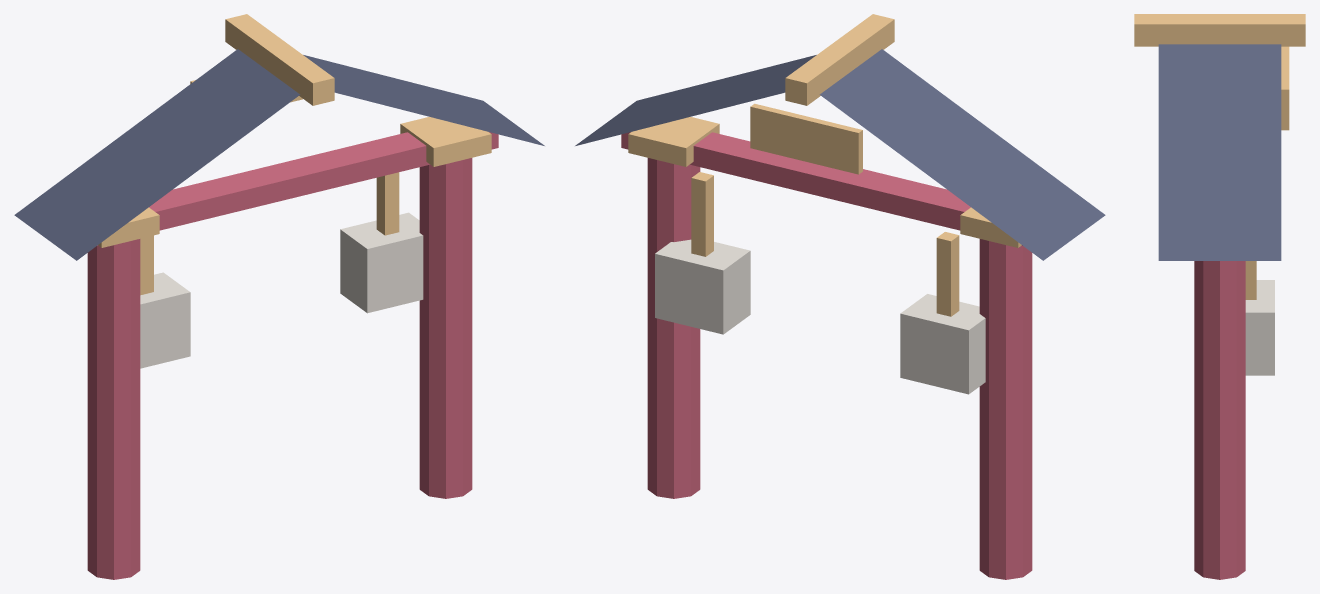
The model's file is v07_moonfall_lantern_arch_lod0.glb.
The picture shows the model from 3 angles, left to right: view 1: azimuth 30°, elevation 25°; view 2: azimuth 150°, elevation 25°; view 3: azimuth 270°, elevation 25°; orthographic projection.
Visible parts, largest first — view 1: moonfall_lantern_arch; view 2: moonfall_lantern_arch; view 3: moonfall_lantern_arch.
Boxes of the visible parts, <box> form: moonfall_lantern_arch: <box>14,14,544,579</box>; moonfall_lantern_arch: <box>575,14,1105,579</box>; moonfall_lantern_arch: <box>1134,14,1305,579</box>.
Bounding box in the file's own units: 6.5 × 6.35 × 2.1.
